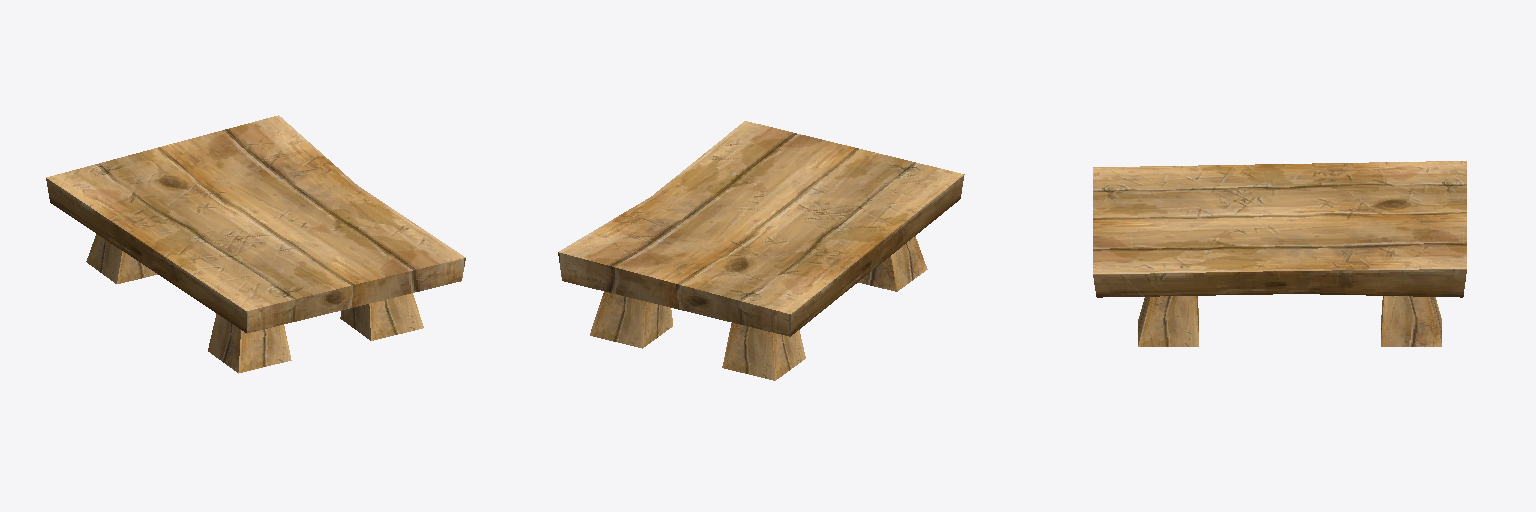
The picture shows the model from 3 angles: view 1: azimuth 30°, elevation 25°; view 2: azimuth 150°, elevation 25°; view 3: azimuth 270°, elevation 25°; orthographic projection.
Parts seen in each view (by area): view 1: inntable.m2; view 2: inntable.m2; view 3: inntable.m2.
Part boxes in pixels (x1,y1,x2,y2): inntable.m2: (46,115,465,373); inntable.m2: (558,121,964,380); inntable.m2: (1093,161,1466,346).
Size of the model in its own units: 2.86 by 1.03 by 3.98.
1 materials, 1 textured.